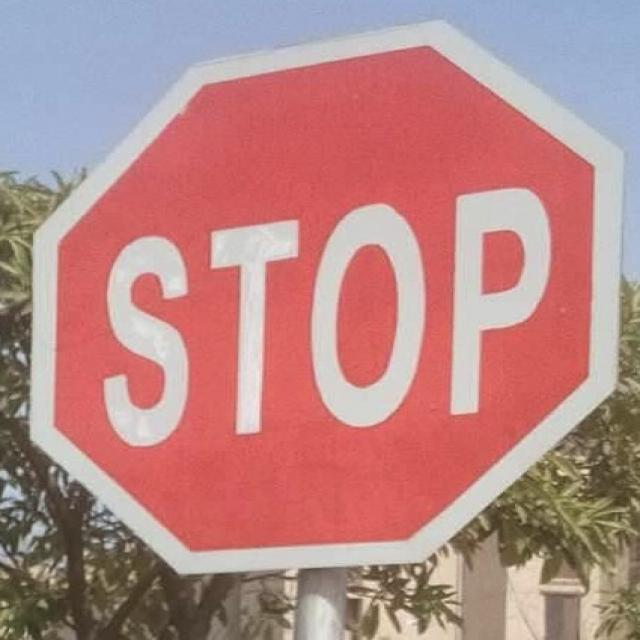stop: (35, 26, 613, 579)
